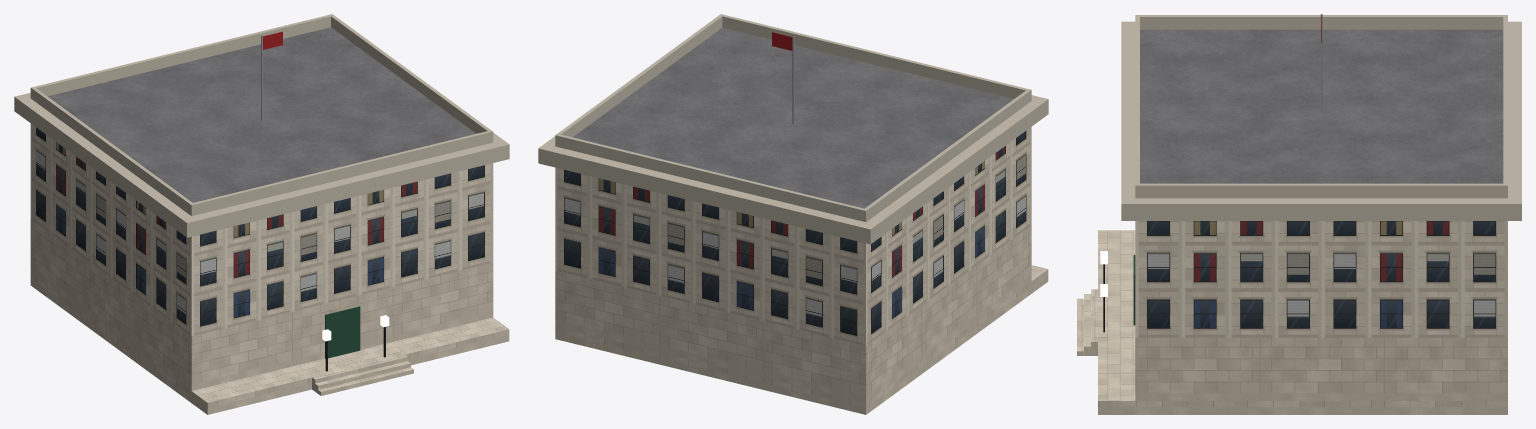
File: 073_police_precinct.glb
The picture shows the model from 3 angles, left to right: view 1: azimuth 30°, elevation 25°; view 2: azimuth 150°, elevation 25°; view 3: azimuth 270°, elevation 25°; orthographic projection. The views are drawn at different scales.
Visible parts, largest first — view 1: 073_police_precinct; view 2: 073_police_precinct; view 3: 073_police_precinct.
Boxes of the visible parts, x1=… form: 073_police_precinct: x1=14, y1=14, x2=509, y2=414; 073_police_precinct: x1=538, y1=14, x2=1048, y2=414; 073_police_precinct: x1=1077, y1=14, x2=1521, y2=414.
Size of the model in its own units: 27.8 by 22.4 by 28.65.
Materials: 9 (3 with a texture image).
